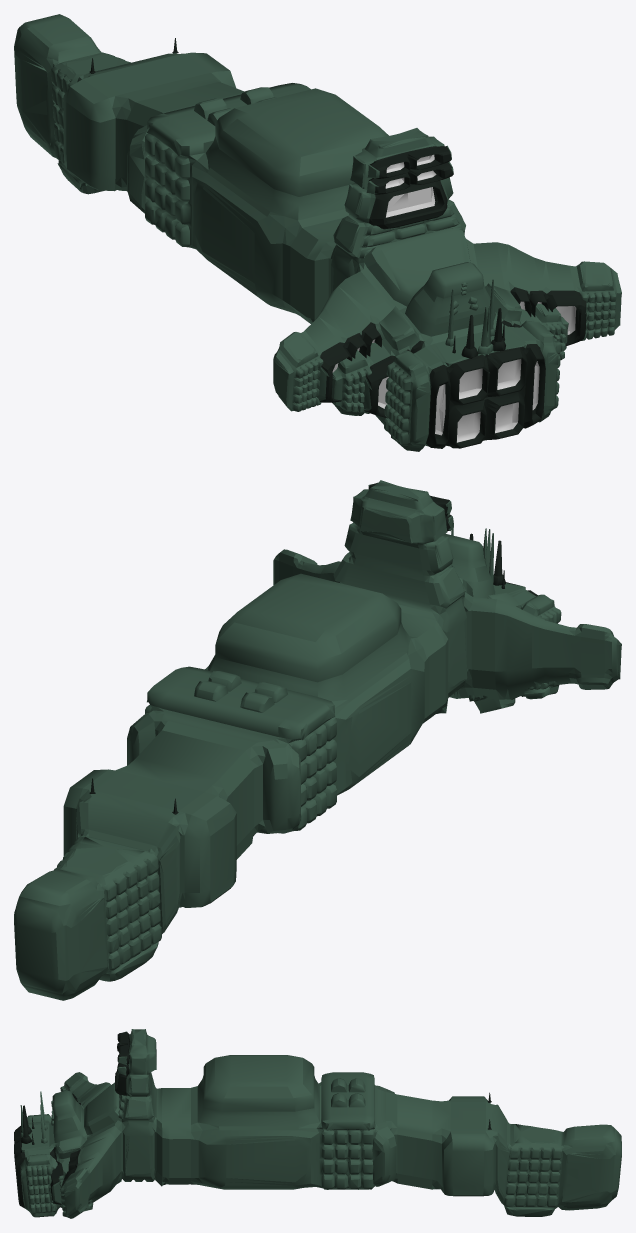
3 views of the same model, one above another, from view 1: azimuth 30°, elevation 25°; view 2: azimuth 150°, elevation 25°; view 3: azimuth 270°, elevation 25° (orthographic). The views are drawn at different scales.
Parts seen in each view (by area): view 1: Spaceship_Mesh_Spaceship_Mesh_hull, Spaceship_Mesh_Spaceship_Mesh_hull_dark, Spaceship_Mesh_Spaceship_Mesh_hull_lights, Spaceship_Mesh_Spaceship_Mesh_exhaust_burn; view 2: Spaceship_Mesh_Spaceship_Mesh_hull, Spaceship_Mesh_Spaceship_Mesh_hull_lights, Spaceship_Mesh_Spaceship_Mesh_hull_dark; view 3: Spaceship_Mesh_Spaceship_Mesh_hull, Spaceship_Mesh_Spaceship_Mesh_hull_lights, Spaceship_Mesh_Spaceship_Mesh_hull_dark.
Boxes of the visible parts, x1=… form: Spaceship_Mesh_Spaceship_Mesh_hull: x1=14, y1=14, x2=621, y2=451; Spaceship_Mesh_Spaceship_Mesh_hull_dark: x1=89, y1=38, x2=586, y2=448; Spaceship_Mesh_Spaceship_Mesh_hull_lights: x1=14, y1=30, x2=620, y2=443; Spaceship_Mesh_Spaceship_Mesh_exhaust_burn: x1=332, y1=154, x2=576, y2=442; Spaceship_Mesh_Spaceship_Mesh_hull: x1=14, y1=480, x2=621, y2=1000; Spaceship_Mesh_Spaceship_Mesh_hull_lights: x1=14, y1=489, x2=620, y2=995; Spaceship_Mesh_Spaceship_Mesh_hull_dark: x1=89, y1=482, x2=537, y2=814; Spaceship_Mesh_Spaceship_Mesh_hull: x1=20, y1=1029, x2=617, y2=1218; Spaceship_Mesh_Spaceship_Mesh_hull_lights: x1=28, y1=1035, x2=621, y2=1216; Spaceship_Mesh_Spaceship_Mesh_hull_dark: x1=14, y1=1032, x2=491, y2=1208.
Size of the model in its own units: 3.54 by 2.56 by 8.2.
